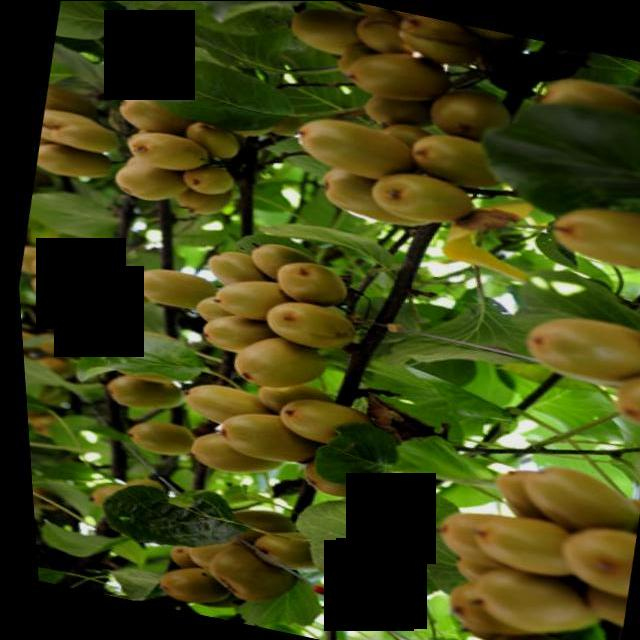kiwi: (457, 541, 614, 640), (508, 459, 640, 548), (515, 304, 640, 396), (466, 507, 597, 586), (293, 111, 424, 186), (315, 156, 444, 232), (209, 403, 333, 472), (202, 532, 310, 609), (369, 163, 486, 232), (407, 126, 526, 193), (224, 326, 331, 399), (544, 195, 640, 276), (182, 421, 292, 484), (273, 389, 378, 454), (260, 293, 361, 356), (114, 85, 221, 144), (177, 376, 284, 434), (123, 260, 226, 316), (110, 148, 202, 209), (40, 100, 131, 156), (100, 365, 188, 419), (271, 255, 354, 309), (126, 125, 215, 175), (118, 412, 200, 462), (36, 139, 122, 185)
